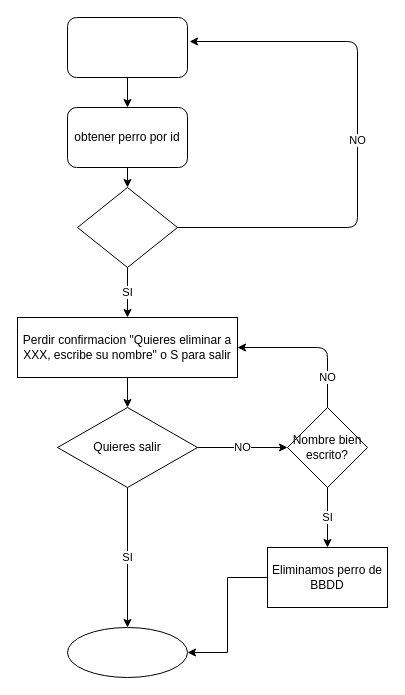
The diagram is 405 pixels wide and 695 high, and some of its shapes have lost their labels. The centre of each missing label's shape, as x and y in pixels:
"Existe perro" belongs at (127,227).
"FIN" belongs at (127,652).
"Preguntamos ID para eliminar" belongs at (127,47).
